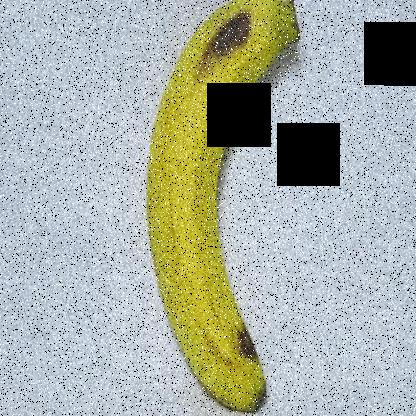freshripe: (131, 0, 325, 415)
